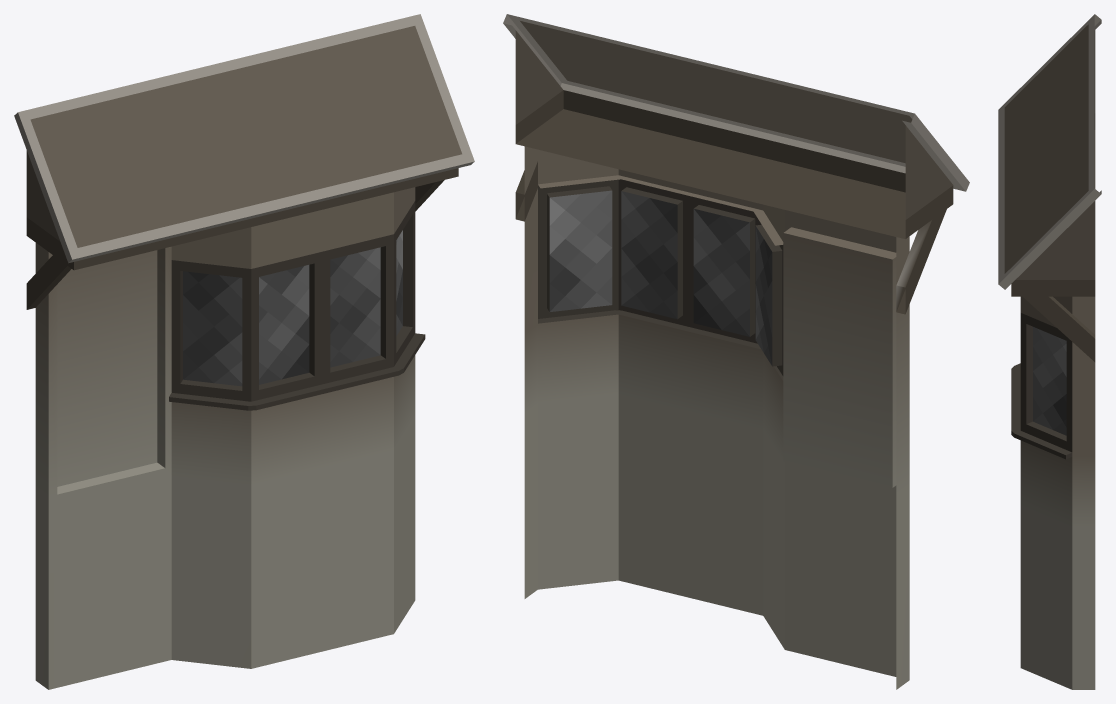
File: Front_B.fbx
The picture shows the model from 3 angles, left to right: view 1: azimuth 30°, elevation 25°; view 2: azimuth 150°, elevation 25°; view 3: azimuth 270°, elevation 25°; orthographic projection. The views are drawn at different scales.
Visible parts, largest first — view 1: Front_B; view 2: Front_B; view 3: Front_B.
Part boxes in pixels (x1,y1,x2,y2): Front_B: [14, 14, 474, 689]; Front_B: [503, 14, 969, 689]; Front_B: [998, 14, 1101, 689].
Size of the model in its own units: 449 by 610 by 112.
